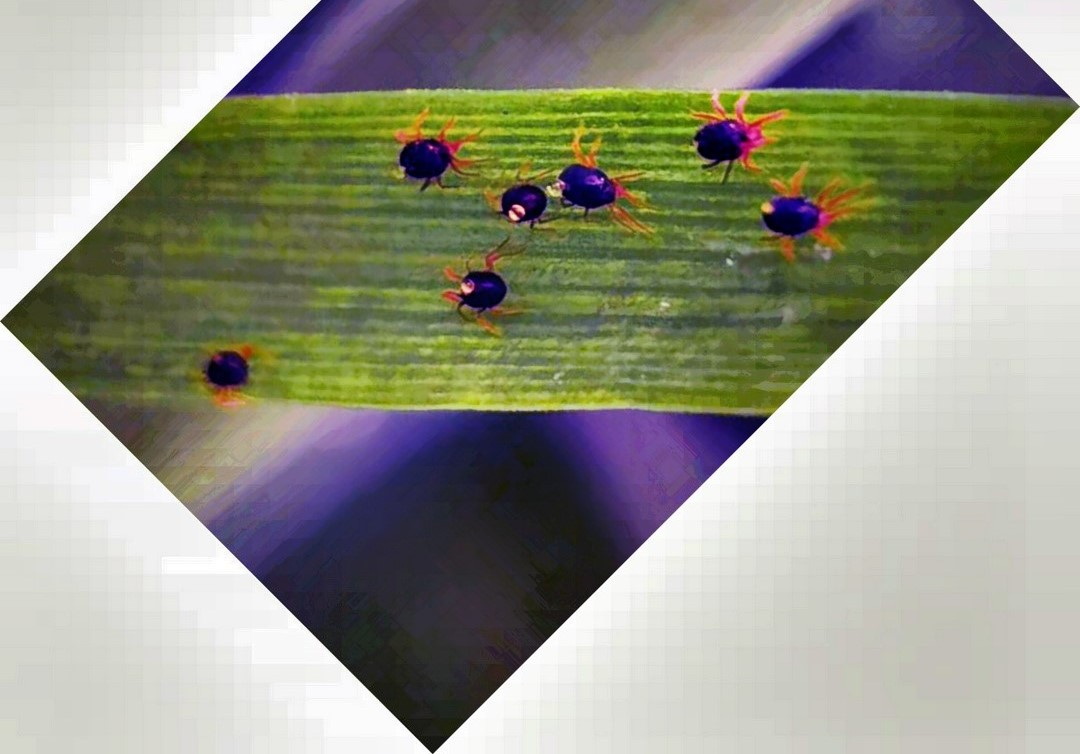Wheat Red Spider: (663, 72, 803, 185), (421, 220, 553, 337), (370, 100, 494, 203)
